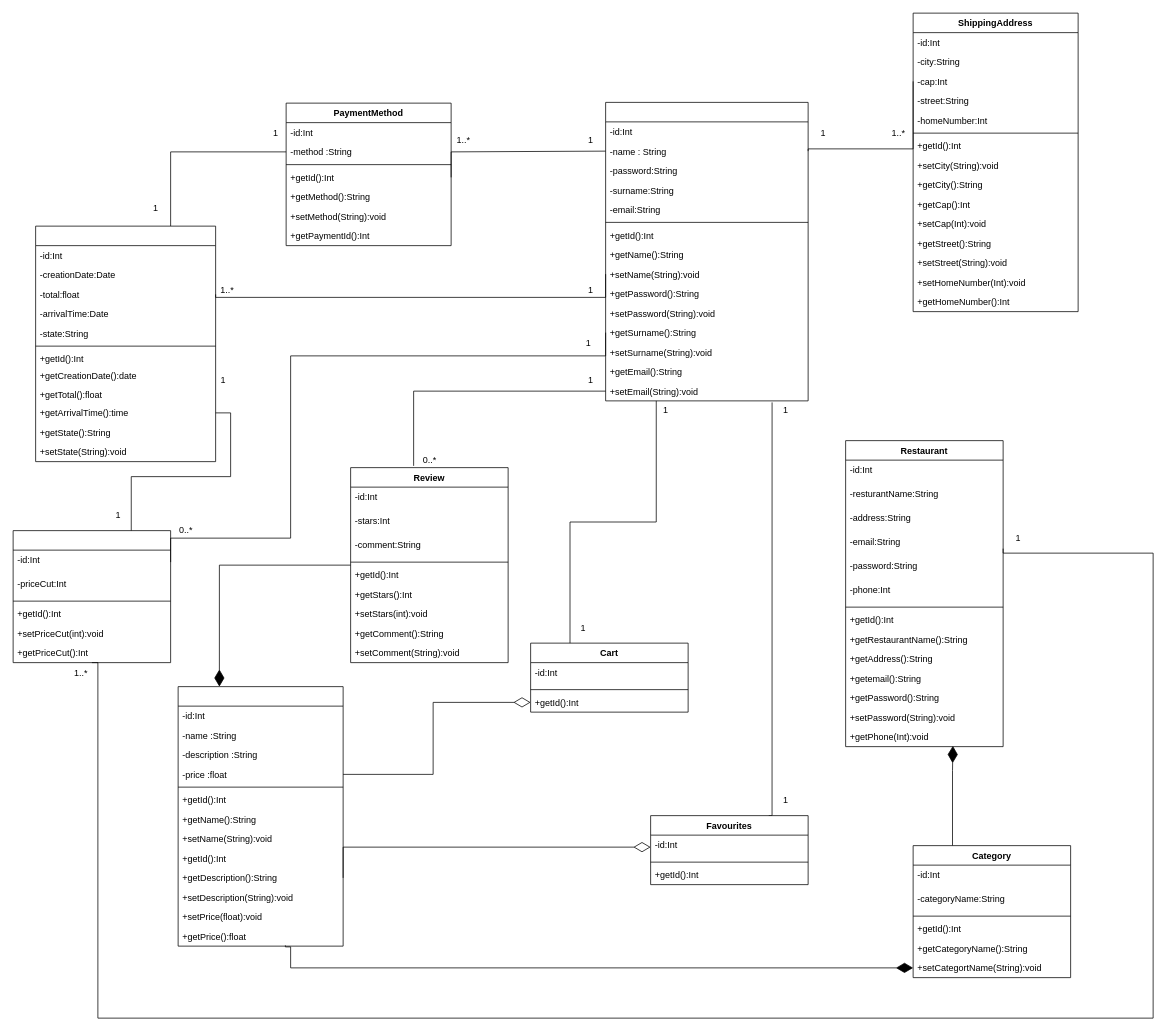
The diagram is 1167 pixels wide and 1032 high, and some of its shapes have lost their labels. The shapes that lost their labels are listed below. From the top down, each one's box as (x1, y1, x2, y2) in pixels, then its label:
(605, 102, 808, 401): User
(35, 225, 216, 462): Order
(12, 530, 171, 663): Coupon
(177, 686, 343, 946): Product
